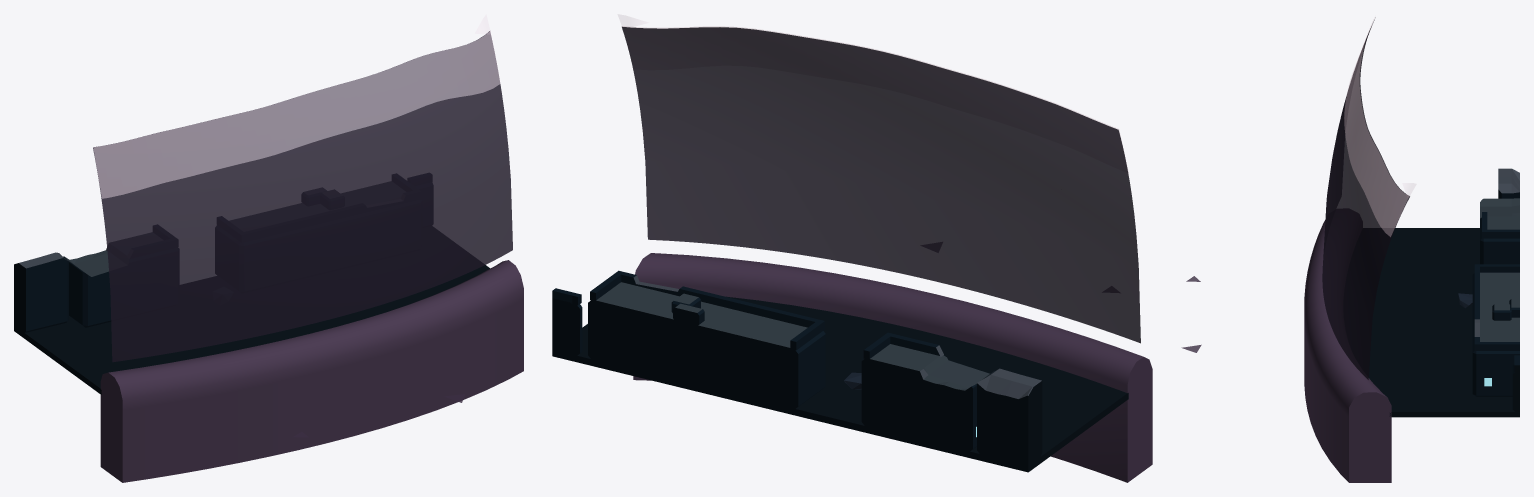
The model's file is purple_dome_bc_wreck.glb.
3 renders of one model, left to right at view 1: azimuth 30°, elevation 25°; view 2: azimuth 150°, elevation 25°; view 3: azimuth 270°, elevation 25°, orthographic. The views are drawn at different scales.
Parts seen in each view (by area): view 1: purple_dome_bc_wreck; view 2: purple_dome_bc_wreck; view 3: purple_dome_bc_wreck.
Boxes of the visible parts, <box> form: purple_dome_bc_wreck: <box>14,16,523,482</box>; purple_dome_bc_wreck: <box>552,15,1152,482</box>; purple_dome_bc_wreck: <box>1181,17,1519,482</box>.
Bounding box in the file's own units: 24 × 18.2 × 18.69.
